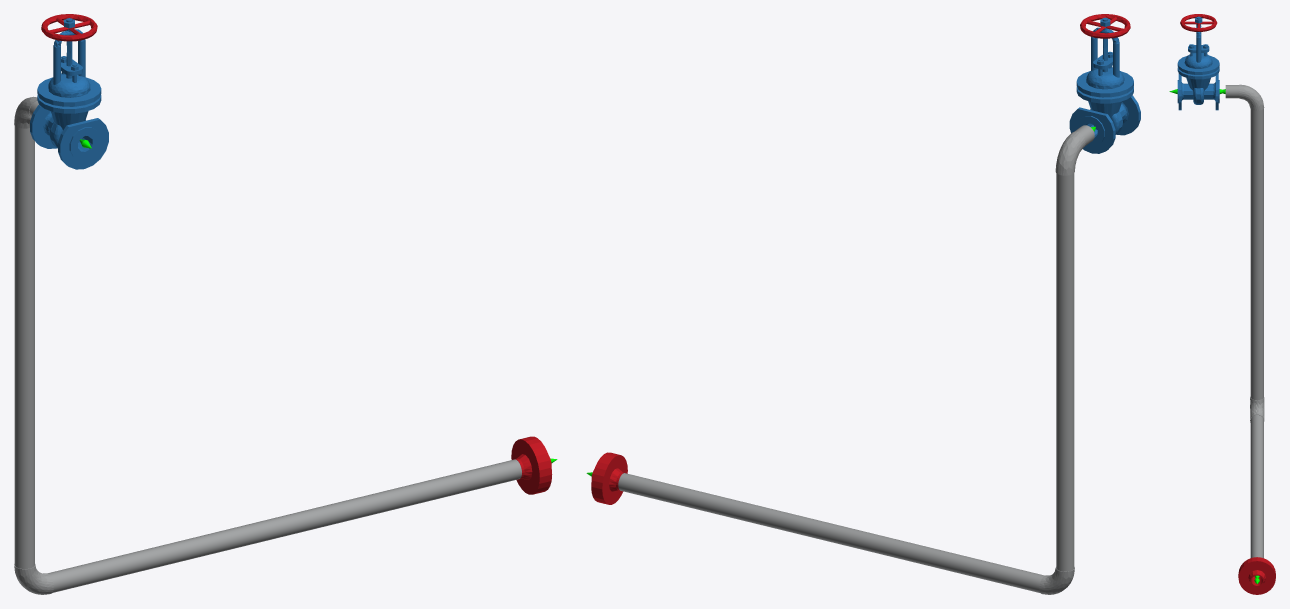
Rendered from Phase04a2.fbx.
3 renders of one model, left to right at view 1: azimuth 30°, elevation 25°; view 2: azimuth 150°, elevation 25°; view 3: azimuth 270°, elevation 25°, orthographic. The views are drawn at different scales.
Visible parts, largest first — view 1: Типы трубопроводов:Труба 108х4-12х18н10т:1296954, Типы трубопроводов:Труба 108х4-12х18н10т:1296945, Крыша по умолчанию 26384, Новый материал (по умолчанию) (×2), CPS_фланец; view 2: Типы трубопроводов:Труба 108х4-12х18н10т:1296954, Типы трубопроводов:Труба 108х4-12х18н10т:1296945, Крыша по умолчанию 26384, Новый материал (по умолчанию) (×2), CPS_фланец; view 3: Типы трубопроводов:Труба 108х4-12х18н10т:1296945, Крыша по умолчанию 26384, Типы трубопроводов:Труба 108х4-12х18н10т:1296954, Новый материал (по умолчанию) (×3), CPS_фланец, Типы трубопроводов:Труба 108х4-12х18н10т:1296887.
Boxes of the visible parts, x1,y1,x2,y2 form: Типы трубопроводов:Труба 108х4-12х18н10т:1296954: (48, 459, 521, 592); Типы трубопроводов:Труба 108х4-12х18н10т:1296945: (14, 126, 34, 568); Крыша по умолчанию 26384: (30, 18, 108, 169); Новый материал (по умолчанию) (×2): (14, 14, 97, 594); CPS_фланец: (511, 438, 545, 494); Типы трубопроводов:Труба 108х4-12х18н10т:1296954: (618, 473, 1044, 592); Типы трубопроводов:Труба 108х4-12х18н10т:1296945: (1056, 173, 1074, 571); Крыша по умолчанию 26384: (1069, 17, 1140, 153); Новый материал (по умолчанию) (×2): (1055, 14, 1130, 175); CPS_фланец: (596, 454, 627, 504); Типы трубопроводов:Труба 108х4-12х18н10т:1296945: (1250, 109, 1263, 400); Крыша по умолчанию 26384: (1177, 16, 1219, 110); Типы трубопроводов:Труба 108х4-12х18н10т:1296954: (1250, 415, 1263, 558); Новый материал (по умолчанию) (×3): (1180, 14, 1264, 422); CPS_фланец: (1238, 559, 1275, 594); Типы трубопроводов:Труба 108х4-12х18н10т:1296887: (1225, 85, 1239, 98).
Size of the model in its own units: 1816 by 457 by 1946.
